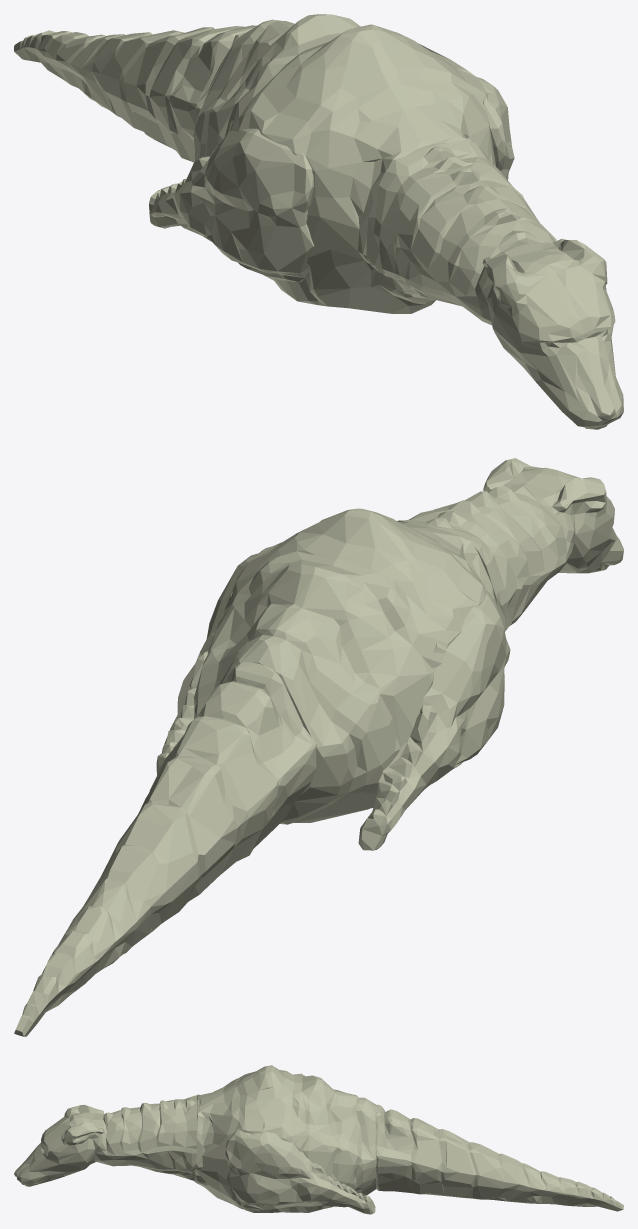
File: Crocodile_01.glb
3 views of the same model, one above another, from view 1: azimuth 30°, elevation 25°; view 2: azimuth 150°, elevation 25°; view 3: azimuth 270°, elevation 25° (orthographic). The views are drawn at different scales.
Visible parts, largest first — view 1: Crocodile_01; view 2: Crocodile_01; view 3: Crocodile_01.
Boxes of the visible parts, x1=… form: Crocodile_01: x1=14, y1=14, x2=623, y2=429; Crocodile_01: x1=14, y1=458, x2=623, y2=1036; Crocodile_01: x1=14, y1=1065, x2=623, y2=1214.
Bounding box in the file's own units: 0.7864 × 0.7781 × 3.
